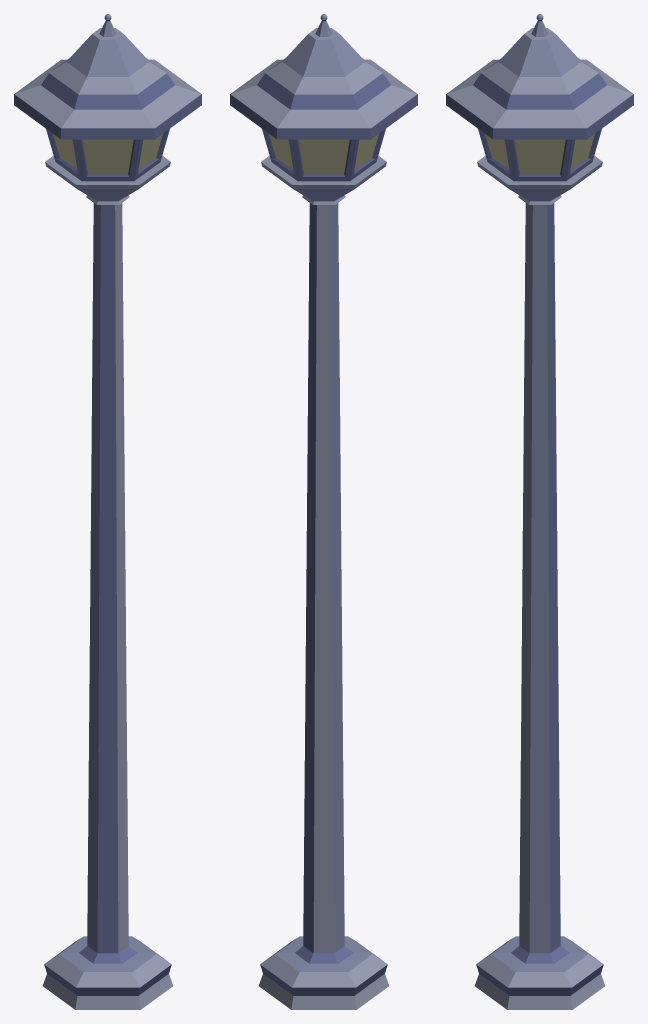
The model's file is LampuTaman.fbx.
The picture shows the model from 3 angles, left to right: view 1: azimuth 30°, elevation 25°; view 2: azimuth 150°, elevation 25°; view 3: azimuth 270°, elevation 25°; orthographic projection.
Parts seen in each view (by area): view 1: Cylinder.002; view 2: Cylinder.002; view 3: Cylinder.002.
Boxes of the visible parts, x1=… form: Cylinder.002: x1=14, y1=14, x2=201, y2=1009; Cylinder.002: x1=230, y1=14, x2=417, y2=1009; Cylinder.002: x1=446, y1=14, x2=633, y2=1009.
Size of the model in its own units: 86.4 by 570 by 99.76.
